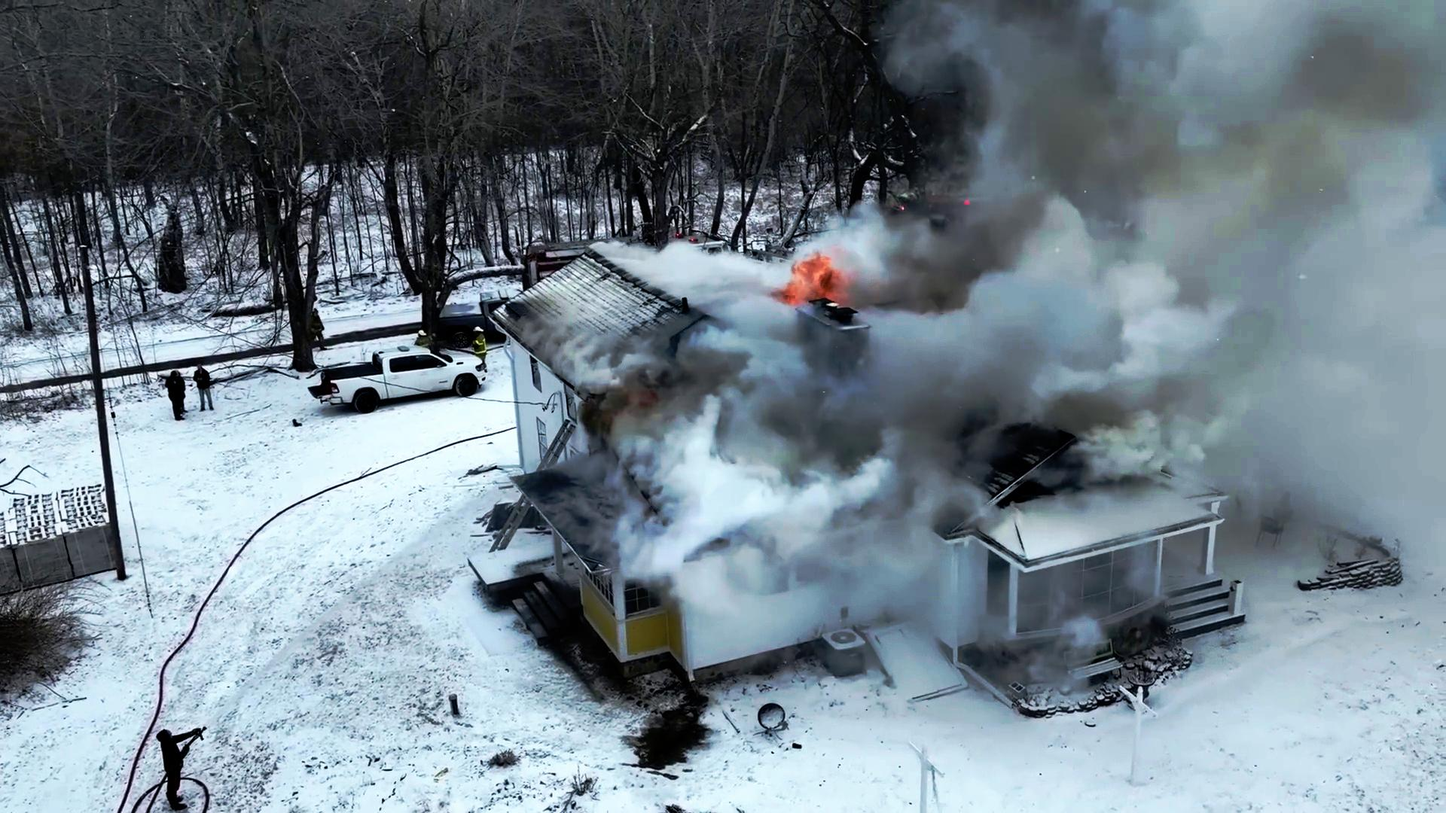smoke: (1072, 32, 1446, 347), (667, 367, 915, 562)
